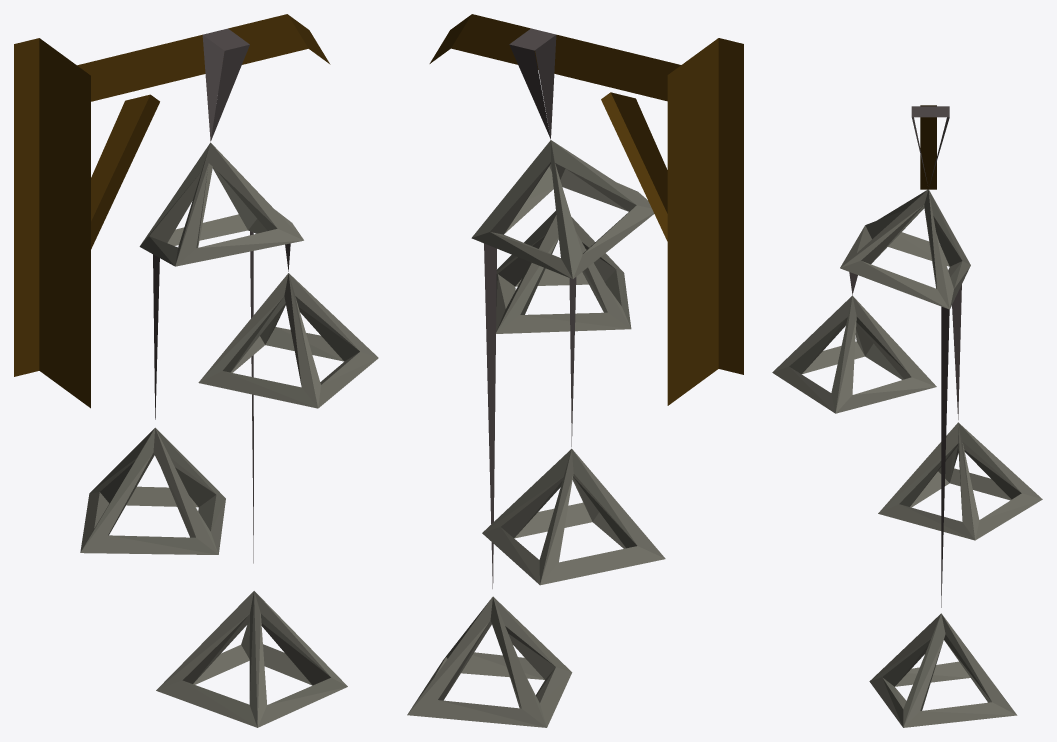
File: obj_charms_0.obj
3 views of the same model, side by side, from view 1: azimuth 30°, elevation 25°; view 2: azimuth 150°, elevation 25°; view 3: azimuth 270°, elevation 25° (orthographic). The views are drawn at different scales.
Size of the model in its own units: 0.5391 by 1.2 by 0.5.
